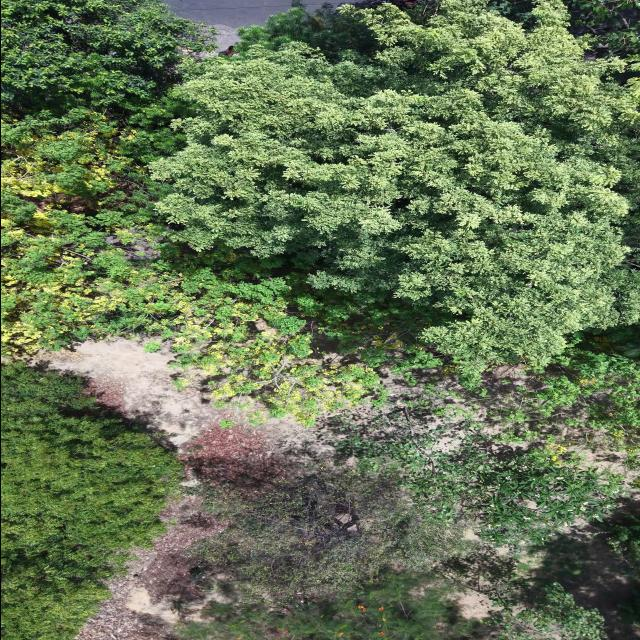DRY_AREA: (36, 338, 333, 484), (36, 338, 273, 483), (46, 337, 244, 446), (76, 497, 221, 639), (50, 338, 219, 445), (165, 0, 291, 50)
PATHWAYS: (165, 0, 291, 49)
VEGETATION_TREE: (1, 0, 639, 639), (4, 2, 637, 420), (152, 0, 639, 365), (1, 0, 376, 421), (196, 343, 639, 639), (178, 477, 606, 639), (339, 347, 639, 544), (1, 363, 179, 639), (197, 470, 464, 598), (359, 434, 623, 543), (178, 574, 607, 639), (1, 0, 207, 125), (393, 435, 622, 543), (172, 325, 379, 424), (178, 575, 470, 639), (501, 347, 639, 451), (235, 2, 375, 57), (487, 582, 607, 639), (566, 0, 639, 55), (592, 515, 639, 580), (592, 515, 639, 578), (617, 588, 639, 625)
